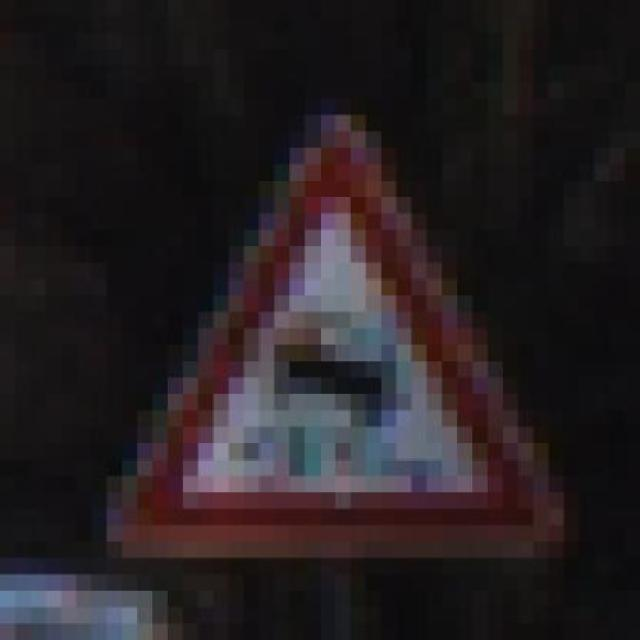Slippery Road Ahead: (76, 82, 579, 575)
